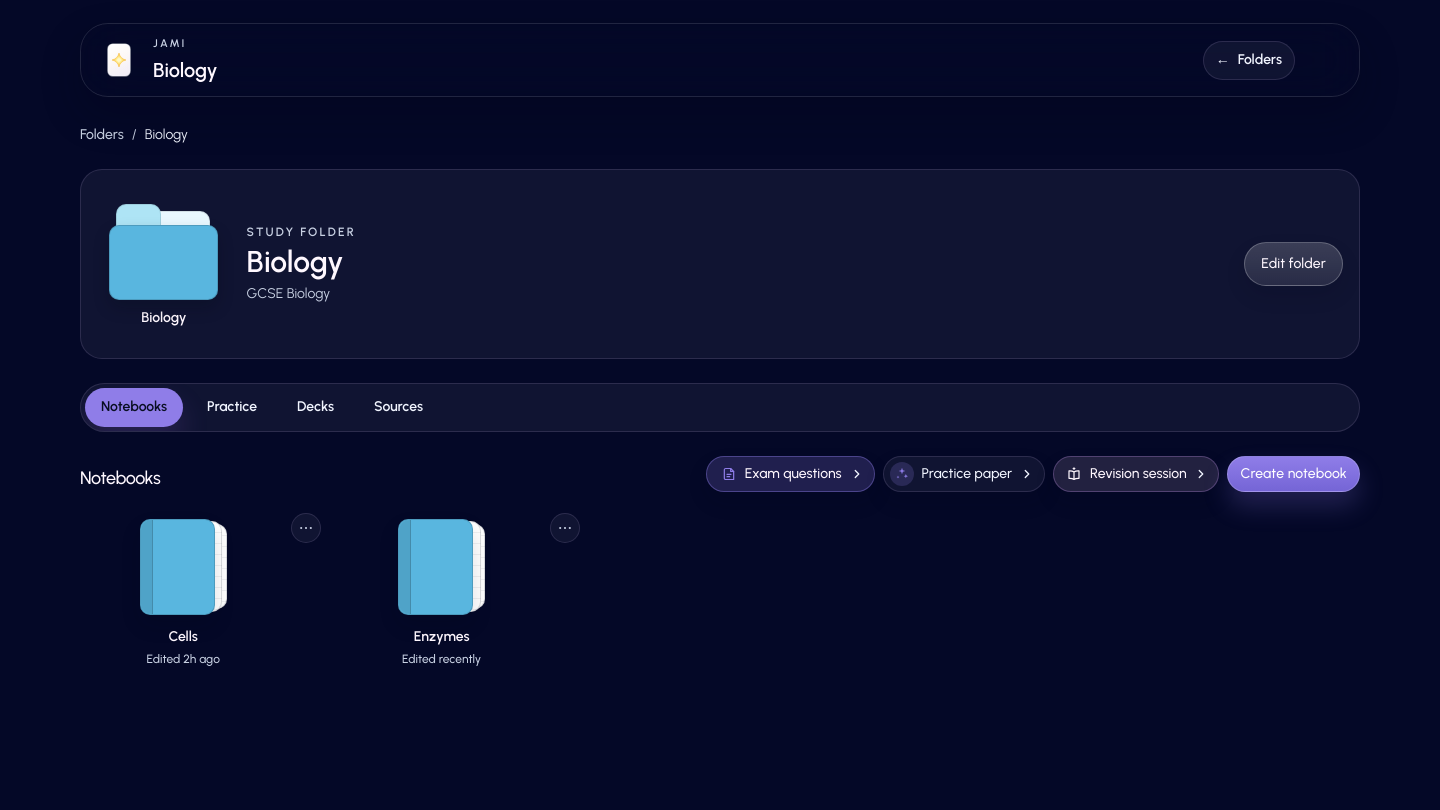
a study folder › lists the folder's sources and takes one out
Click the button "Sources": [398, 407] box [358,388,439,427]
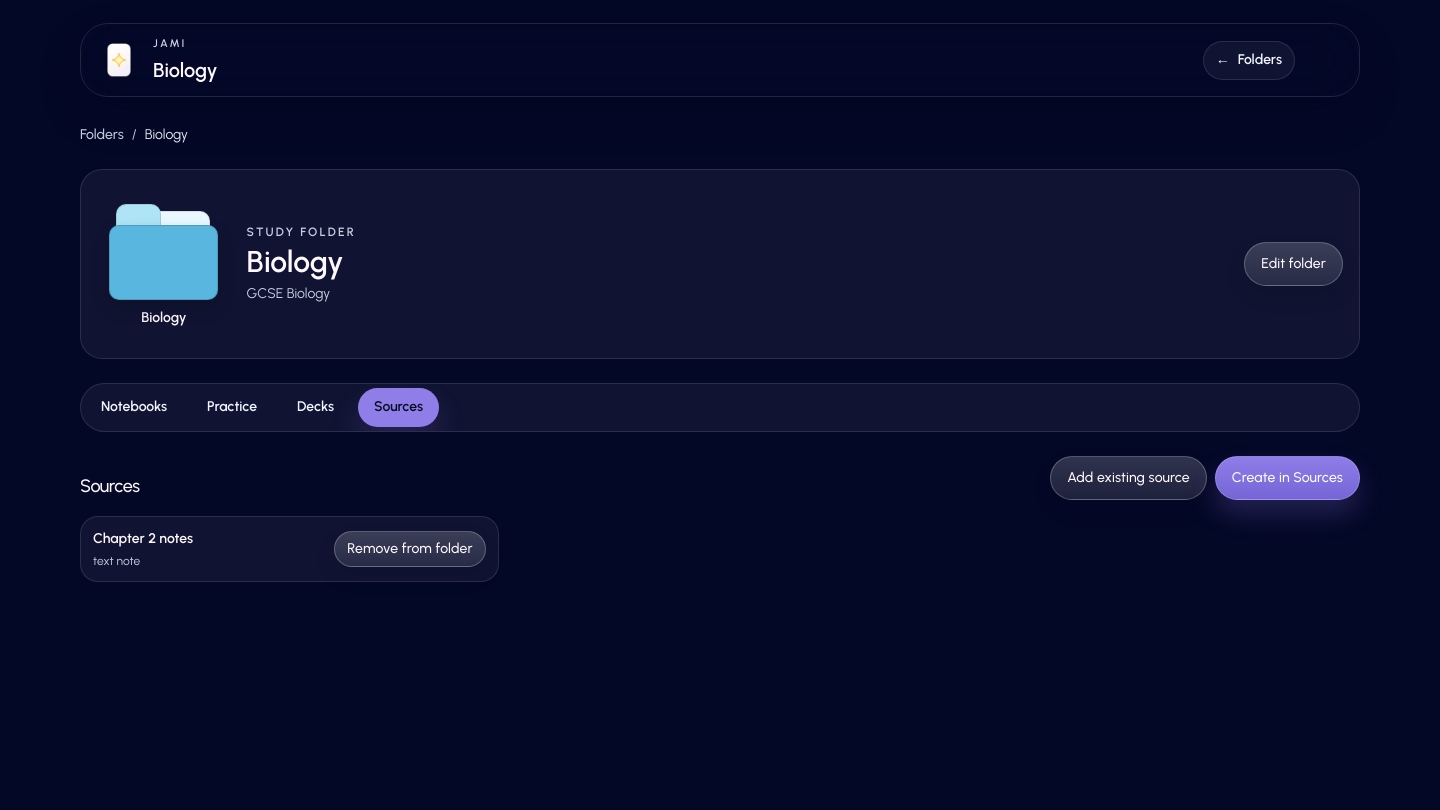
Check: the text "Chapter 2 notes" is shown, box [93,529,193,549]
Check: the button "Remove from folder" is shown
Click the button "Remove from folder": [410, 549] box [334,531,486,567]
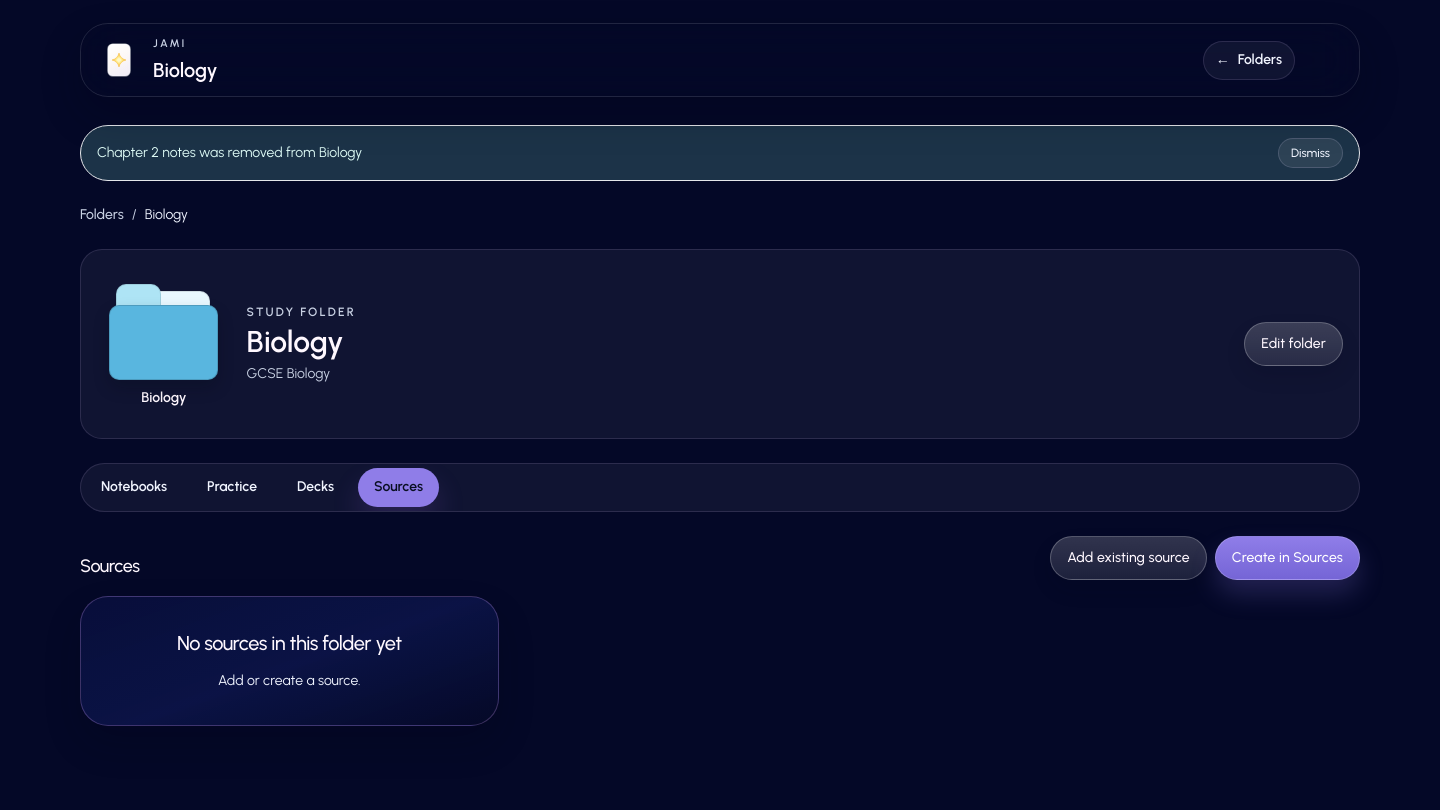
Check: the text "Chapter 2 notes was removed from Biology" is shown, box [97,143,362,163]
